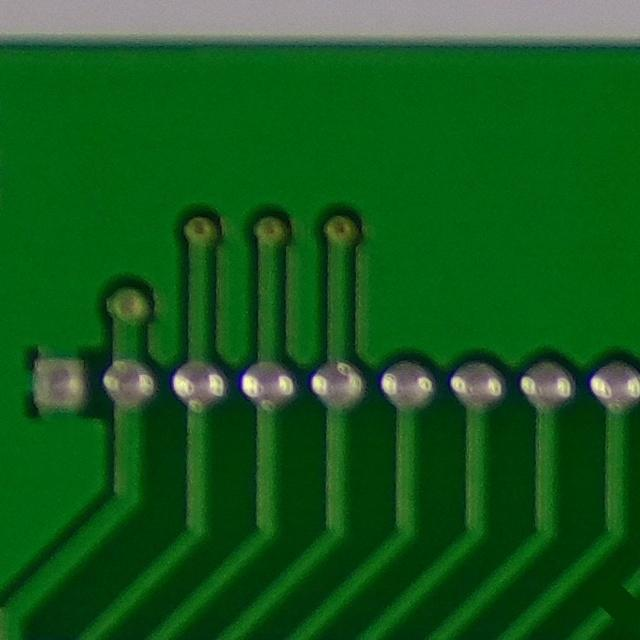open_circuit: (591, 576, 639, 628)
